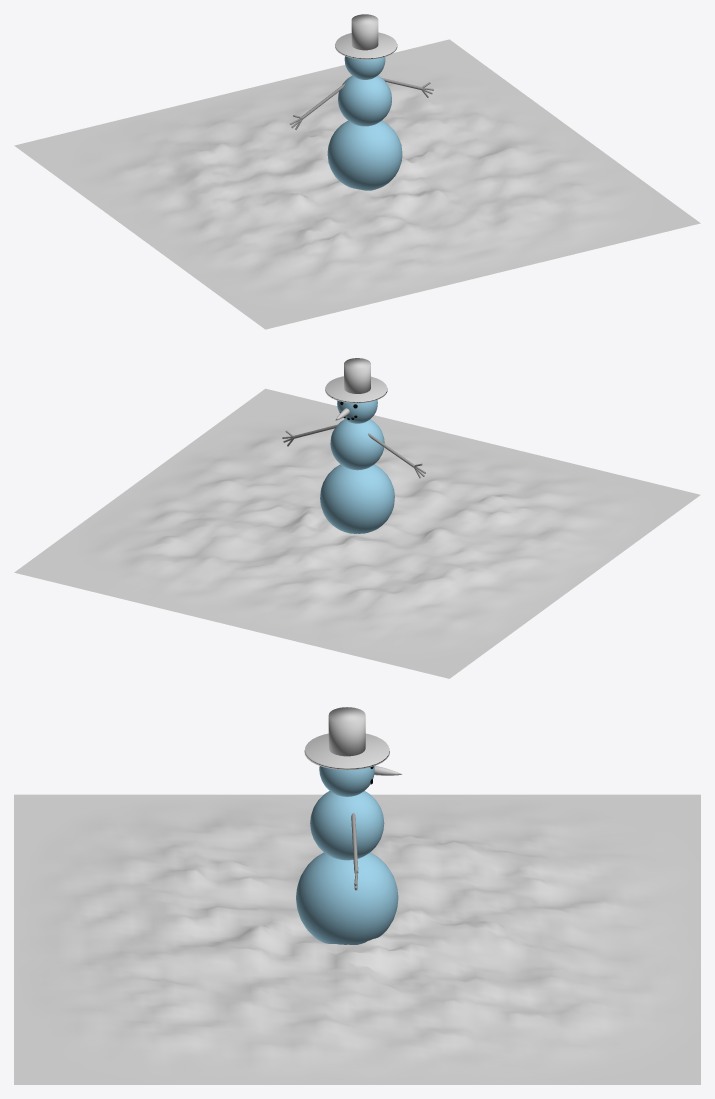
File: snowmanmap.fbx
The picture shows the model from 3 angles, top to bottom: view 1: azimuth 30°, elevation 25°; view 2: azimuth 150°, elevation 25°; view 3: azimuth 270°, elevation 25°; orthographic projection. The views are drawn at different scales.
Parts seen in each view (by area): view 1: Landscape, Sphere, Sphere.001, Sphere.003, Cylinder, Sphere.002; view 2: Landscape, Sphere, Sphere.001, Sphere.003, Cylinder, Sphere.002; view 3: Landscape, Sphere, Sphere.001, Sphere.003, Cylinder, Sphere.002.
Boxes of the visible parts, x1,y1,x2,y2 form: Landscape: (14,39,700,329); Sphere: (327,121,402,190); Sphere.001: (338,75,391,126); Sphere.003: (335,32,397,59); Cylinder: (351,14,378,50); Sphere.002: (344,56,385,79); Landscape: (14,388,700,678); Sphere: (320,464,394,533); Sphere.001: (330,419,384,470); Sphere.003: (325,376,387,403); Cylinder: (344,358,370,393); Sphere.002: (337,400,377,423); Landscape: (14,794,700,1084); Sphere: (296,852,398,944); Sphere.001: (310,791,384,860); Sphere.003: (304,733,389,770); Cylinder: (328,707,365,756); Sphere.002: (319,766,374,796).
Bounding box in the file's own units: 16 × 5.9 × 16.
